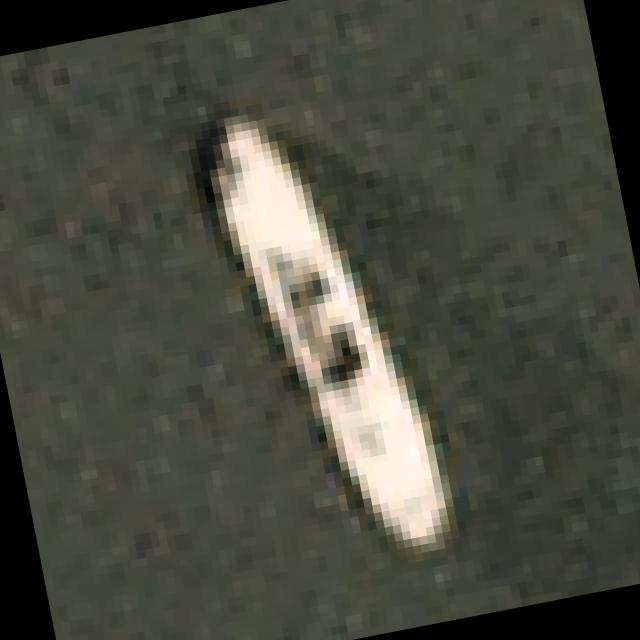ship: (158, 63, 512, 606)
